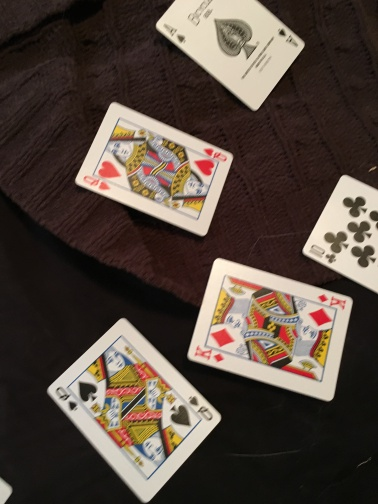ace: (153, 1, 307, 114)
king: (189, 258, 353, 403)
queen: (46, 317, 220, 504), (78, 101, 235, 239)
ten: (301, 175, 378, 291)
